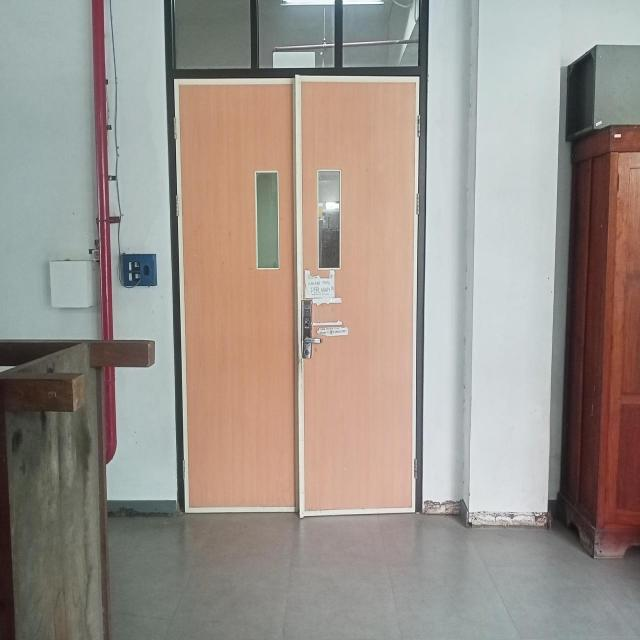door: (176, 75, 422, 518)
